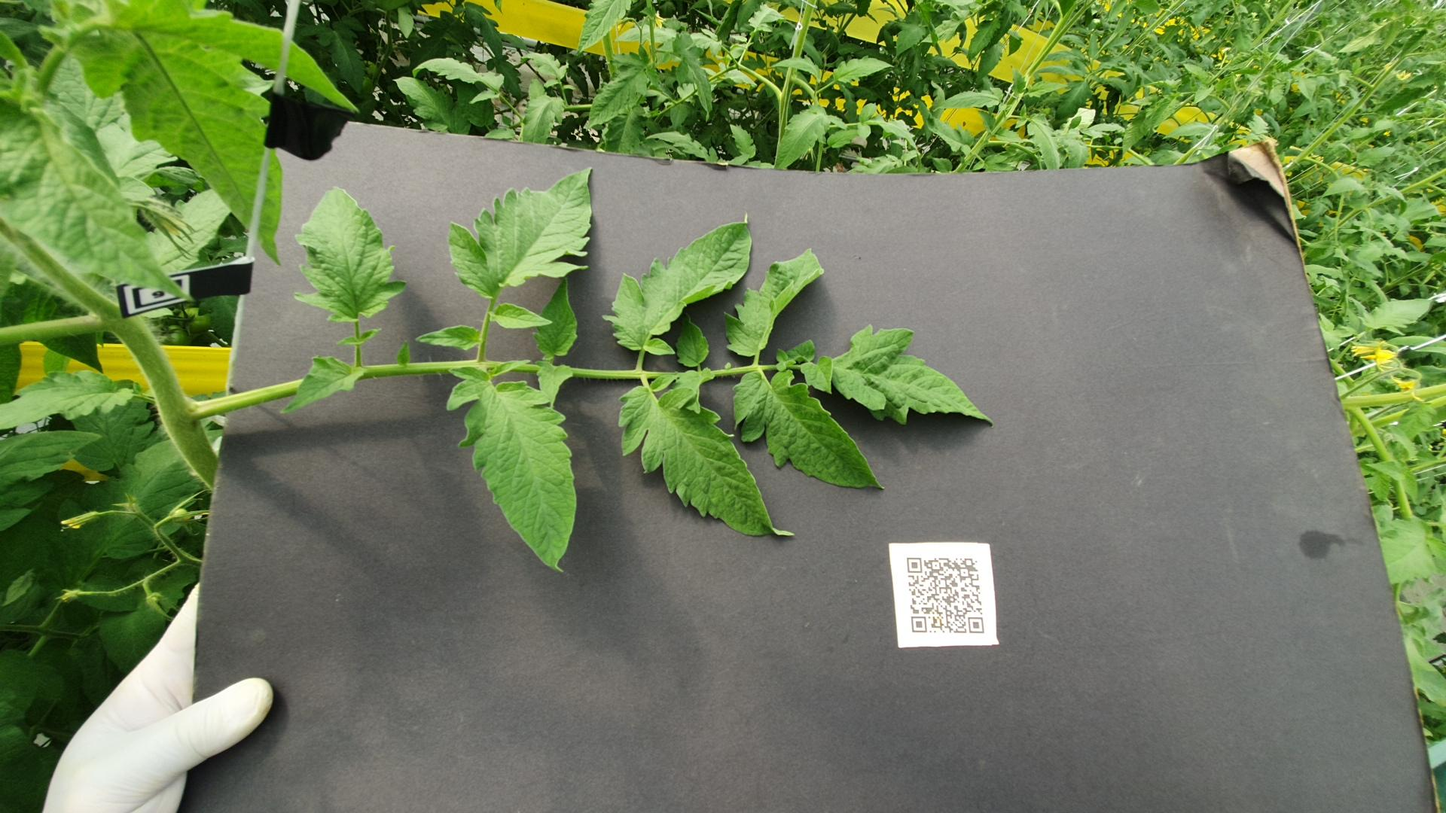Healthy: (971, 38, 1446, 159), (907, 0, 1258, 111), (1245, 53, 1446, 202), (491, 348, 780, 447), (428, 250, 806, 324), (814, 339, 1069, 424), (911, 251, 1149, 333), (572, 411, 789, 497), (689, 468, 873, 558), (872, 165, 1120, 229), (813, 406, 1007, 463), (681, 0, 789, 75), (711, 157, 818, 206), (1203, 220, 1312, 263), (1260, 232, 1346, 284), (1144, 434, 1248, 475), (1214, 328, 1330, 364), (808, 297, 952, 325), (1344, 322, 1446, 355), (851, 763, 915, 806), (1158, 362, 1215, 404), (1186, 292, 1277, 318), (1144, 577, 1245, 596), (792, 379, 892, 398), (1166, 521, 1235, 548), (720, 301, 804, 322), (1249, 524, 1292, 565), (1299, 468, 1349, 503), (1333, 543, 1418, 563), (1230, 592, 1305, 614), (825, 233, 867, 271), (863, 275, 907, 311), (1300, 430, 1348, 462), (1165, 630, 1251, 646), (744, 449, 815, 468), (1299, 547, 1374, 564), (1337, 503, 1403, 521), (1092, 742, 1129, 771), (1199, 653, 1232, 683), (1165, 410, 1226, 426), (591, 767, 629, 792), (1213, 646, 1272, 662), (1150, 762, 1186, 785), (1272, 577, 1304, 601), (1261, 729, 1311, 741), (1258, 670, 1299, 683)
